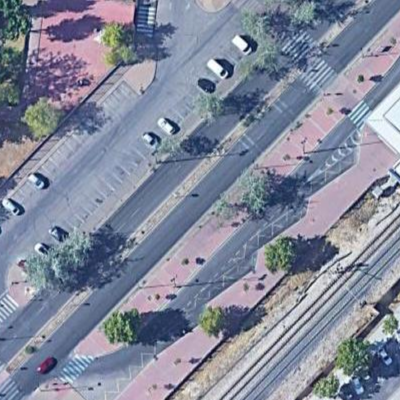tree: (24, 231, 121, 287), (231, 167, 288, 220), (333, 336, 379, 384), (261, 232, 307, 278), (97, 22, 143, 67), (22, 96, 63, 137), (101, 308, 144, 346), (196, 303, 233, 340), (314, 372, 346, 399), (379, 310, 400, 342)
